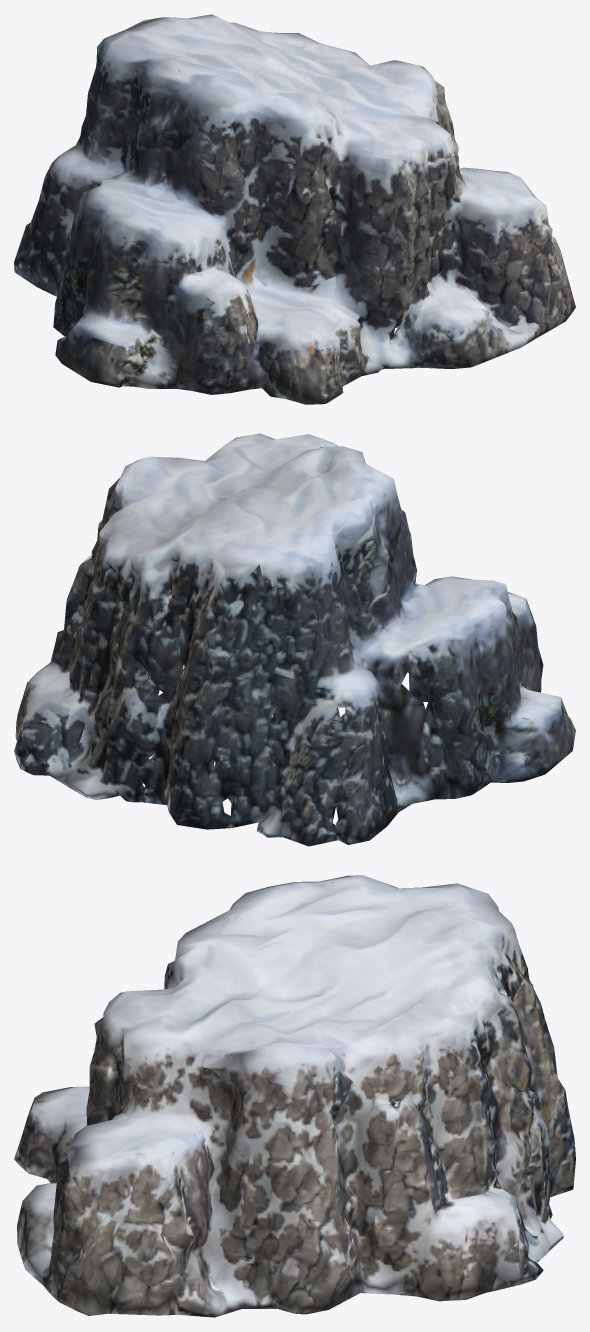
The model's file is FirstRoom_SnowBoulder.fbx.
3 renders of one model, top to bottom at view 1: azimuth 30°, elevation 25°; view 2: azimuth 150°, elevation 25°; view 3: azimuth 270°, elevation 25°, orthographic. The views are drawn at different scales.
Visible parts, largest first — view 1: FirstRoom_SnowBoulder_Mesh; view 2: FirstRoom_SnowBoulder_Mesh; view 3: FirstRoom_SnowBoulder_Mesh.
Boxes of the visible parts, left/top/right/bottom form: FirstRoom_SnowBoulder_Mesh: left=14, top=14, right=575, bottom=404; FirstRoom_SnowBoulder_Mesh: left=14, top=433, right=575, bottom=846; FirstRoom_SnowBoulder_Mesh: left=14, top=875, right=575, bottom=1317.
Bounding box in the file's own units: 6 × 3.14 × 5.68.
Materials: 1 (1 with a texture image).
